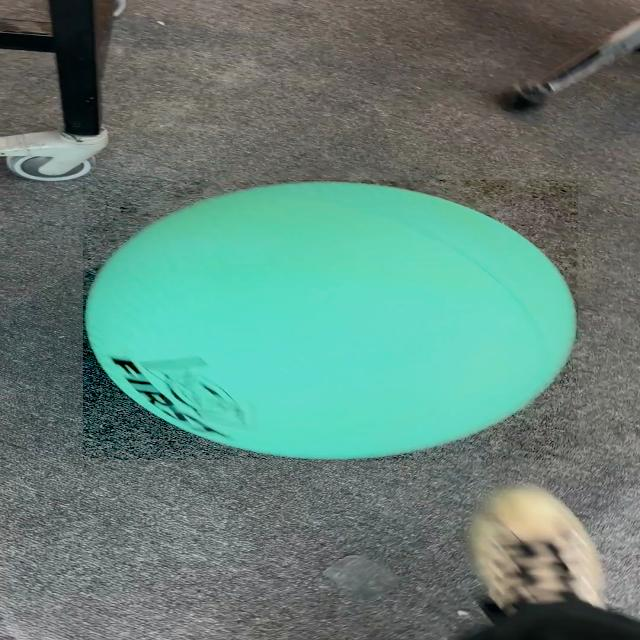Algae: (83, 180, 578, 460)
